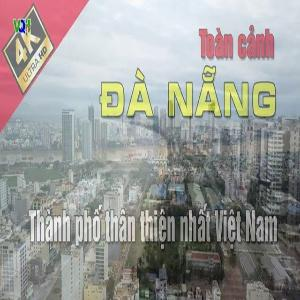drone: (244, 159, 291, 206)
